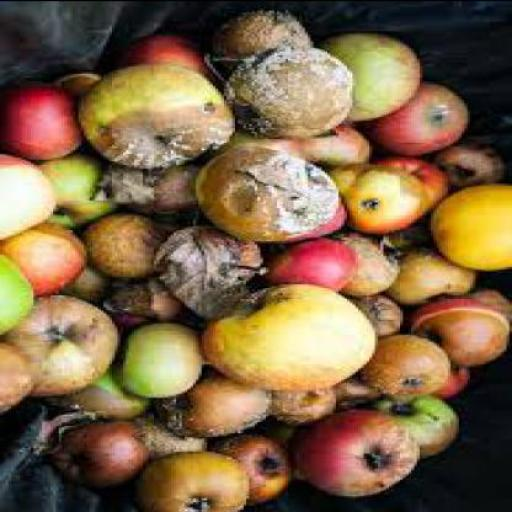biodegradable: (202, 284, 384, 395), (81, 65, 238, 171), (201, 145, 353, 244), (224, 48, 358, 140), (6, 296, 126, 398), (294, 410, 425, 501), (322, 36, 425, 123), (162, 367, 277, 442), (157, 234, 249, 322), (366, 84, 472, 158), (159, 228, 274, 294), (134, 450, 254, 511), (104, 161, 210, 227), (118, 322, 207, 400), (433, 185, 511, 273), (330, 166, 428, 234), (42, 152, 125, 232), (3, 223, 89, 300), (3, 84, 89, 160), (221, 124, 375, 166), (50, 362, 156, 423), (58, 421, 151, 490), (109, 35, 227, 86), (260, 236, 362, 294), (364, 334, 453, 400), (82, 214, 170, 280), (221, 11, 322, 68), (378, 396, 464, 460), (416, 310, 511, 367), (2, 156, 62, 242), (411, 286, 511, 336), (212, 435, 289, 499), (369, 156, 453, 214), (395, 249, 478, 307), (338, 236, 402, 298), (134, 411, 213, 460), (436, 142, 506, 188), (2, 256, 42, 336), (2, 341, 40, 417), (42, 409, 101, 456), (272, 387, 338, 429), (352, 296, 406, 335), (339, 378, 386, 413), (436, 367, 474, 399), (392, 231, 434, 255), (59, 72, 103, 94)
